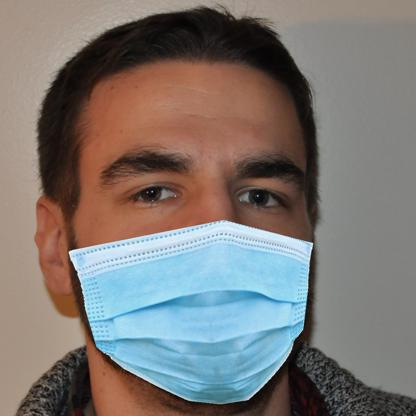mask: (71, 219, 315, 404)
